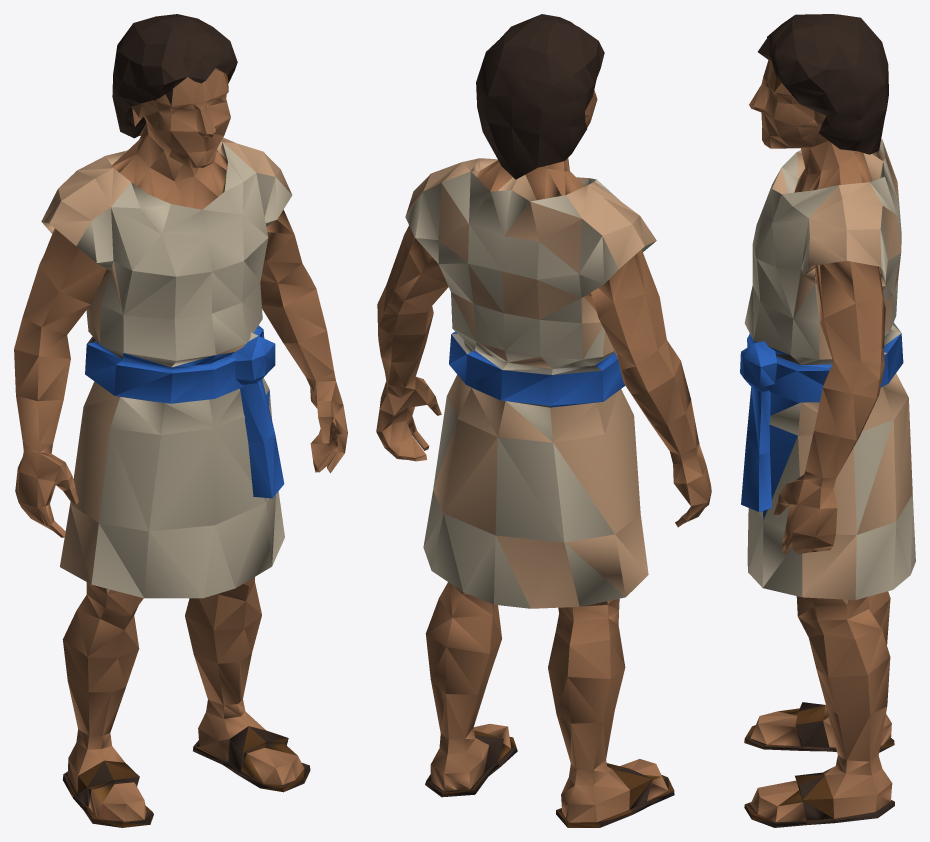
The model's file is unit.settler.bakeoff_b.glb.
The picture shows the model from 3 angles, left to right: view 1: azimuth 30°, elevation 25°; view 2: azimuth 150°, elevation 25°; view 3: azimuth 270°, elevation 25°; orthographic projection.
Parts seen in each view (by area): view 1: asset; view 2: asset; view 3: asset.
Part boxes in pixels (bbox=[...]): asset: bbox=[14, 14, 347, 827]; asset: bbox=[376, 14, 711, 827]; asset: bbox=[740, 14, 915, 827].
Size of the model in its own units: 0.4044 by 0.9 by 0.1898.
